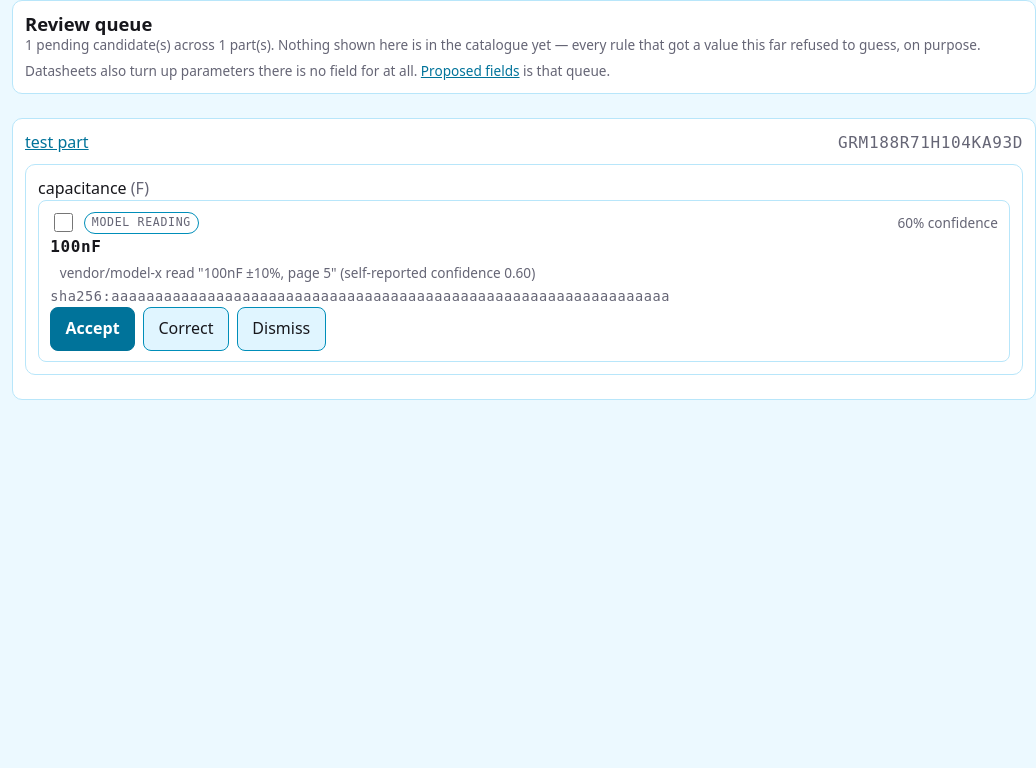
Test: correcting a value › submits the correction, which the server records as a fresh manual candidate
Click the button "Correct". click: x=186, y=329
box: [143,307,229,351]
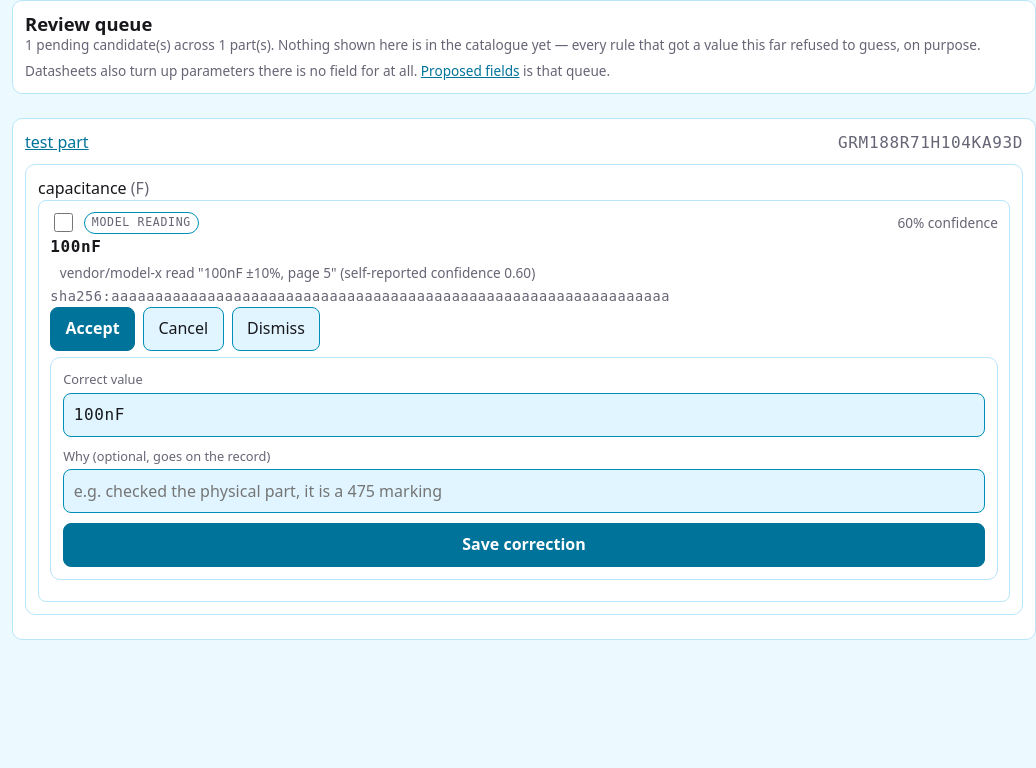
Replace the text in the field showing "100nF" with "4.7uF". click: x=524, y=415
box: [63,393,985,437]
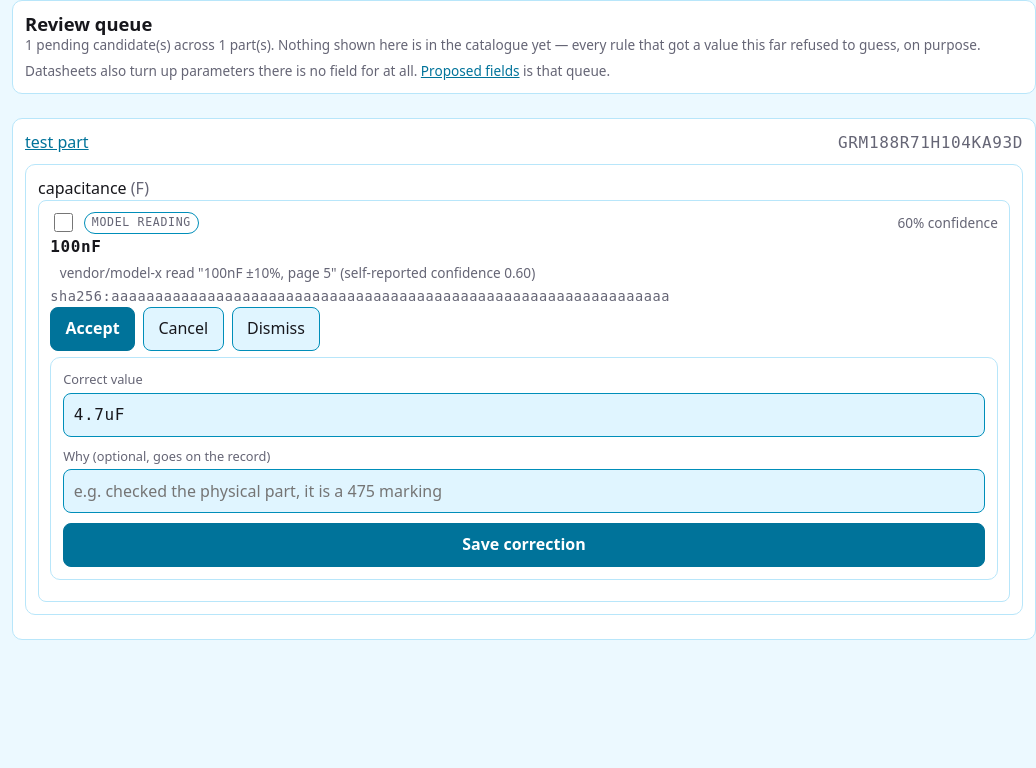
Type "checked the part, it reads 475" into the field with placeholder "e.g. checked the physical part, it is a 475 marking". click: x=524, y=491
box: [63,469,985,513]
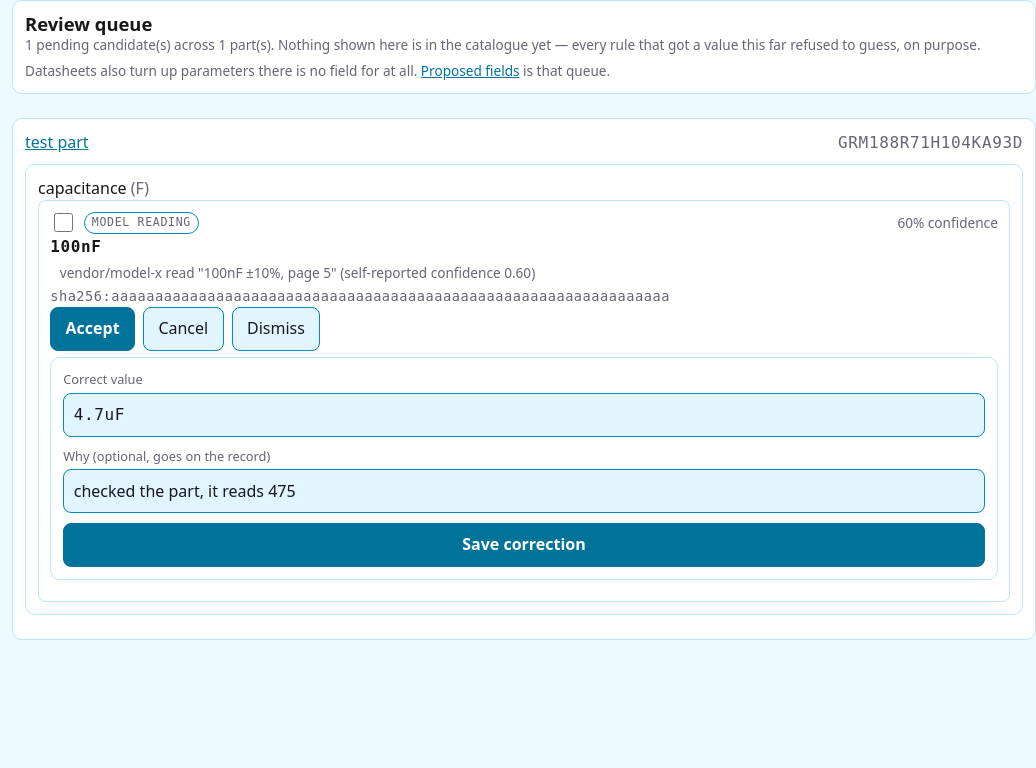
Click the button "Save correction". click: x=524, y=545
box: [63,523,985,567]
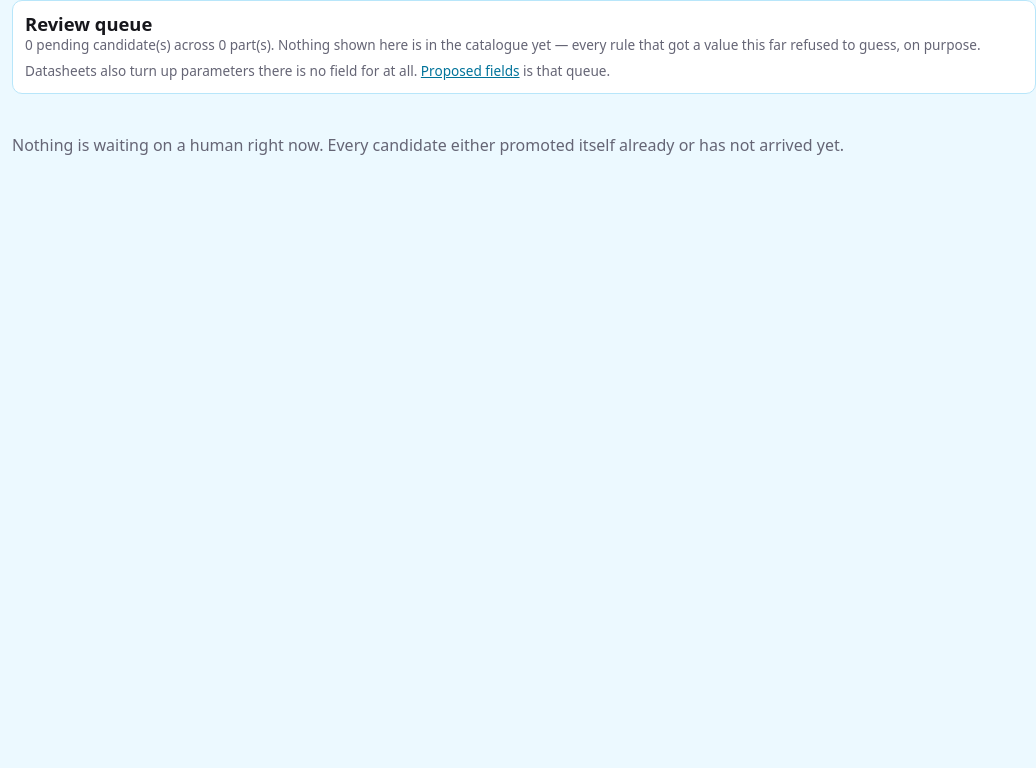
expect the text "Nothing is waiting on a human right now" is shown: met, box [12,134,844,156]
